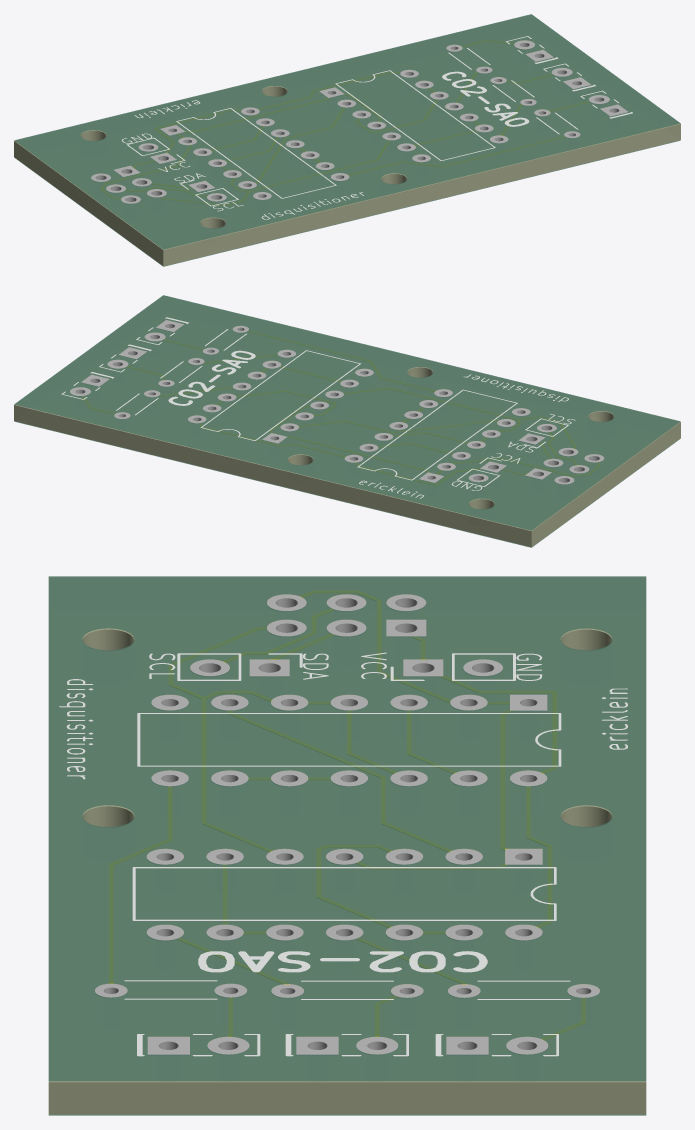
The model's file is co2-traffic-light-sao.glb.
The picture shows the model from 3 angles, top to bottom: view 1: azimuth 30°, elevation 25°; view 2: azimuth 150°, elevation 25°; view 3: azimuth 270°, elevation 25°; orthographic projection. The views are drawn at different scales.
Parts seen in each view (by area): view 1: =>[0:1:1:8], =>[0:1:1:6], =>[0:1:1:2], =>[0:1:1:4]; view 2: =>[0:1:1:8], =>[0:1:1:6], =>[0:1:1:2], =>[0:1:1:4]; view 3: =>[0:1:1:6], =>[0:1:1:8], =>[0:1:1:2], =>[0:1:1:4].
Boxes of the visible parts, x1=… form: =>[0:1:1:8]: x1=14, y1=15, x2=680, y2=266; =>[0:1:1:6]: x1=14, y1=14, x2=680, y2=266; =>[0:1:1:2]: x1=91, y1=40, x2=628, y2=205; =>[0:1:1:4]: x1=122, y1=36, x2=632, y2=219; =>[0:1:1:8]: x1=14, y1=296, x2=680, y2=547; =>[0:1:1:6]: x1=14, y1=295, x2=680, y2=547; =>[0:1:1:2]: x1=70, y1=320, x2=604, y2=485; =>[0:1:1:4]: x1=61, y1=317, x2=575, y2=498; =>[0:1:1:6]: x1=48, y1=576, x2=646, y2=1115; =>[0:1:1:8]: x1=48, y1=578, x2=646, y2=1114; =>[0:1:1:2]: x1=95, y1=591, x2=599, y2=1054; =>[0:1:1:4]: x1=59, y1=652, x2=627, y2=1056.
Size of the model in its own units: 0.0508 by 0.00166 by 0.0254.
Materials: 4 (4 with a texture image).
